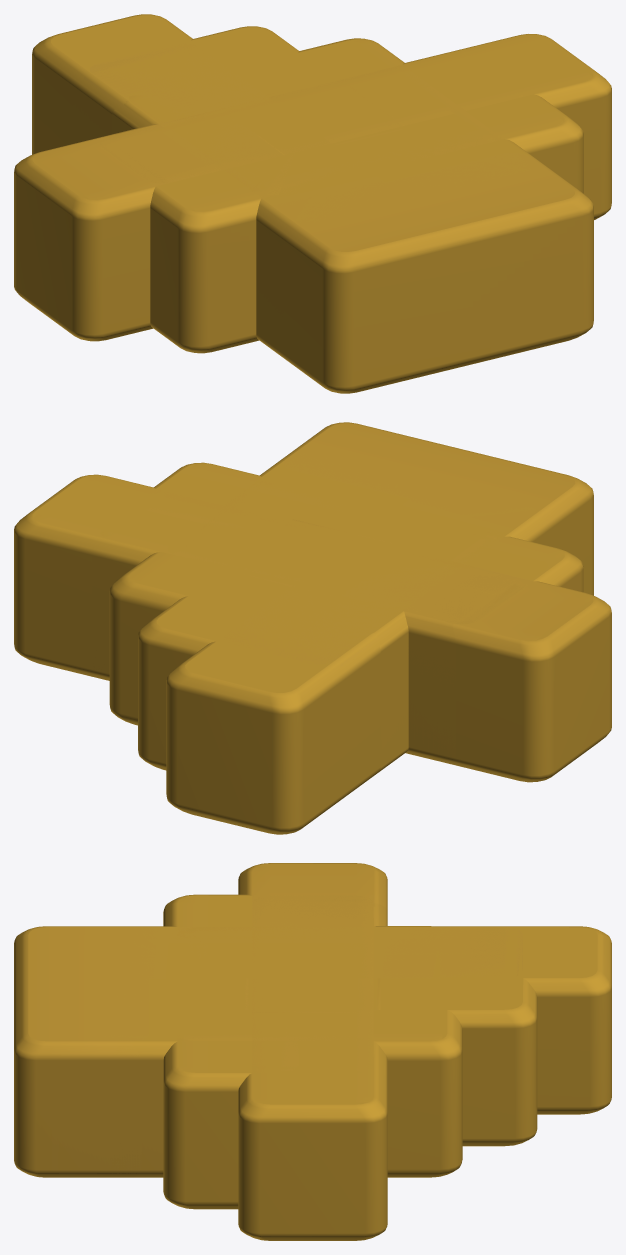
File: Color.fbx
3 views of the same model, one above another, from view 1: azimuth 30°, elevation 25°; view 2: azimuth 150°, elevation 25°; view 3: azimuth 270°, elevation 25° (orthographic). The views are drawn at different scales.
Parts seen in each view (by area): view 1: Color; view 2: Color; view 3: Color.
Boxes of the visible parts, left/top/right/bottom form: Color: left=14, top=14, right=611, bottom=393; Color: left=14, top=422, right=611, bottom=834; Color: left=14, top=863, right=611, bottom=1240.
Bounding box in the file's own units: 4 × 1 × 4.
Materials: 1 (1 with a texture image).
